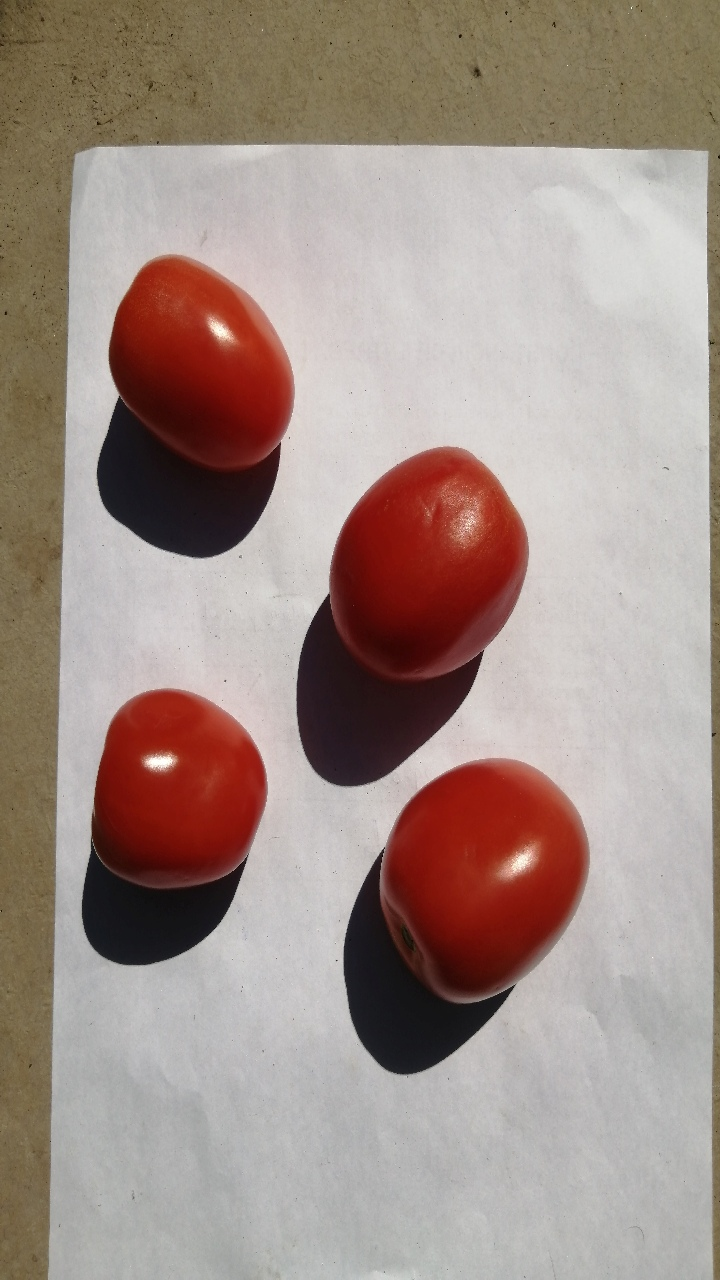tomateRojo: (338, 732, 612, 1029), (321, 420, 535, 705), (100, 242, 309, 482), (77, 679, 289, 908)
